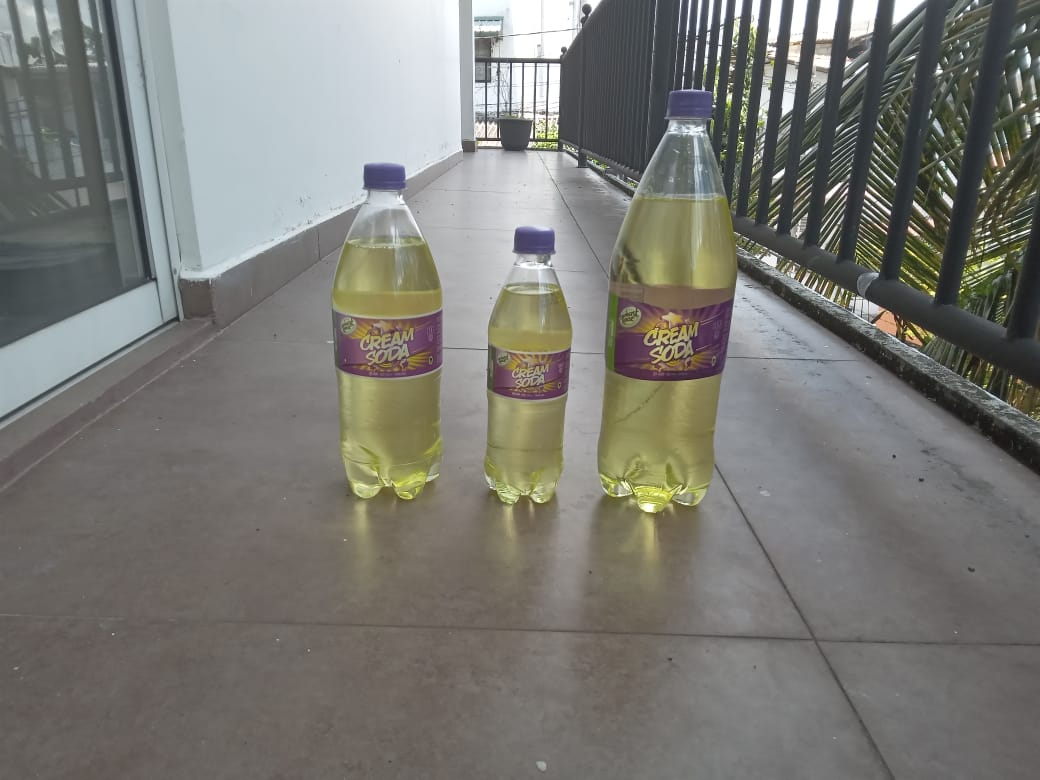L: (593, 89, 741, 515)
M: (329, 164, 445, 504)
S: (484, 223, 572, 509)
